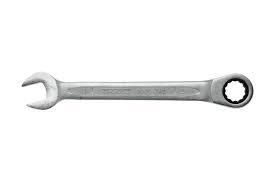wrench: (20, 70, 253, 109)
